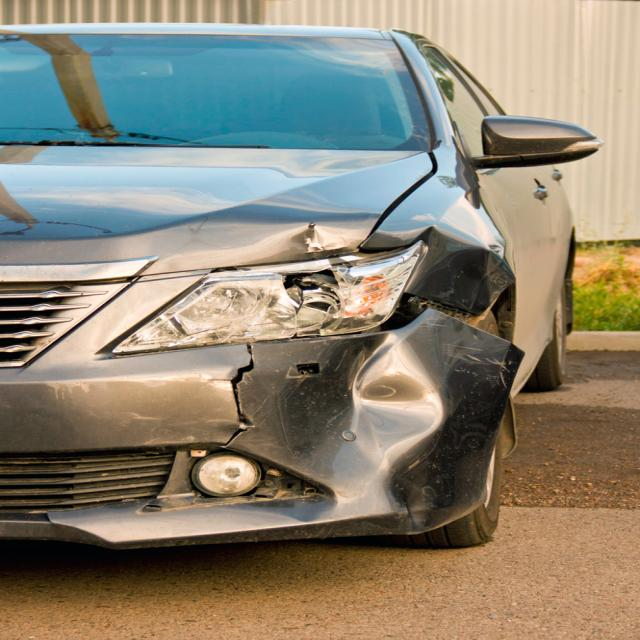crack: (228, 343, 258, 426)
dent: (276, 332, 445, 488), (410, 248, 514, 314), (264, 225, 363, 262)
lamp broken: (113, 236, 427, 354)
